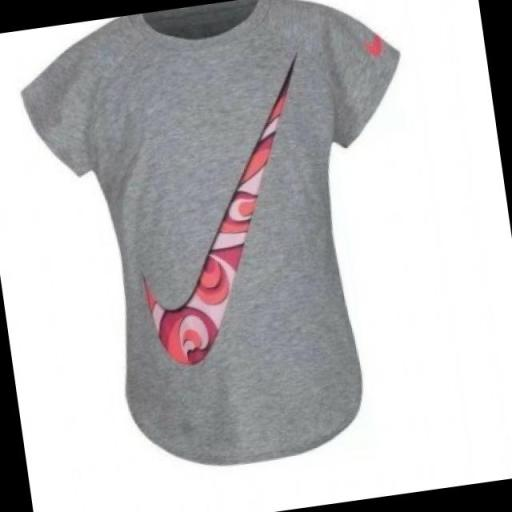Nike: (98, 45, 352, 396)
